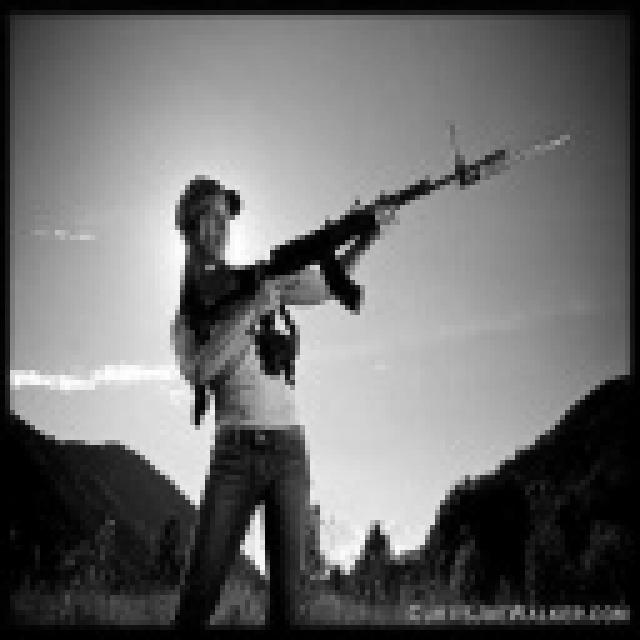Rifle: (218, 112, 588, 374)
